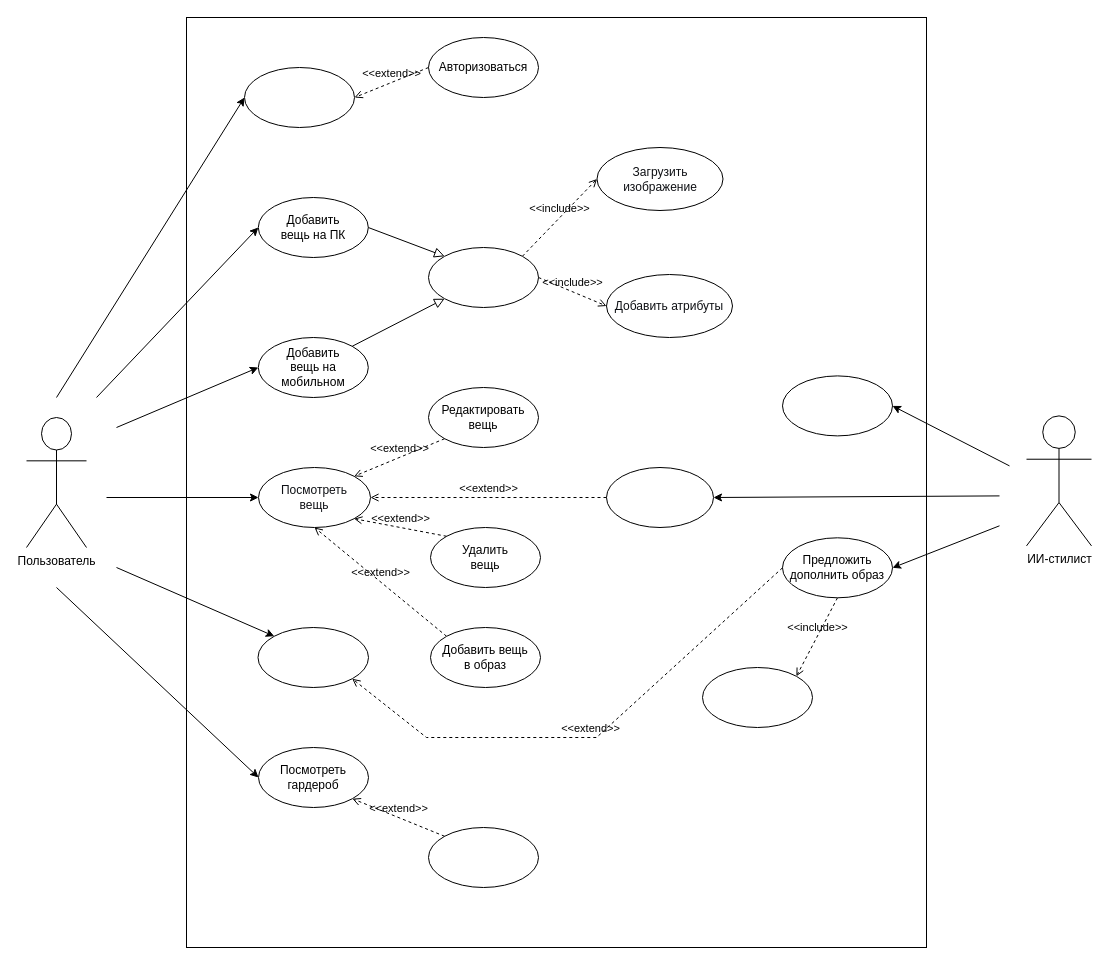
This 1109x965 diagram has some shape labels left out. Here are the shapes that lost their labels. From the top down, the centre of each, then its label:
At point 299,97: "Зарегистироваться".
At point 483,277: "Добавить вещь в гардероб".
At point 837,405: "Найти магазин".
At point 660,497: "Сгенерировать образ".
At point 312,657: "Посмотреть образы".
At point 757,697: "Анализировать образ".
At point 483,857: "Отфильтровать гардероб".
